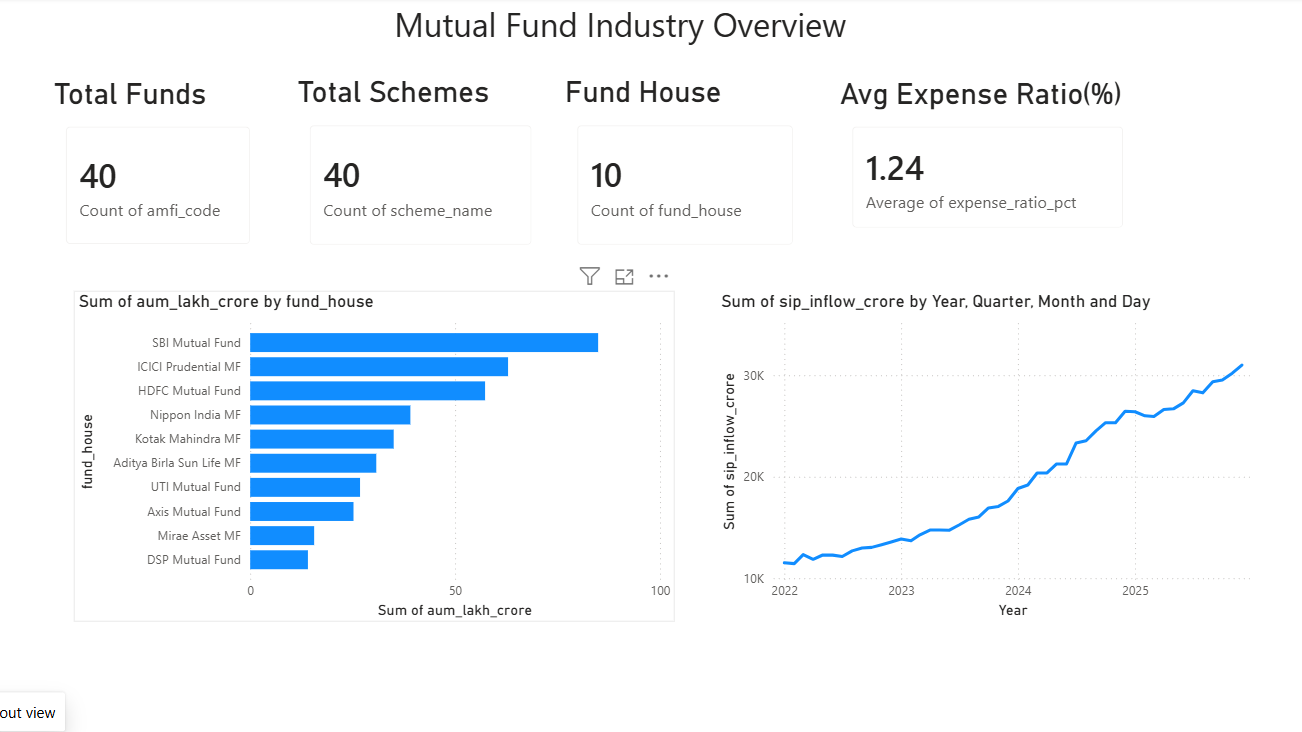

The page's visual inventory and layout, read from the dashboard file:
{"tool":"powerbi","page":{"name":"Industry Overview","canvas":[1280,720],"ordinal":0},"visuals":[{"type":"textbox","box":[9.6,0,1203.4,91.9],"z":0},{"type":"cardVisual","title":"Total Funds","fields":{"Data":["CountNonNull(01_fund_master_cleaned.amfi_code)"]},"box":[52.1,76.8,214.1,182.5],"z":1000},{"type":"cardVisual","title":"Total Schemes","fields":{"Data":["Count(01_fund_master_cleaned.scheme_name)"]},"box":[290.9,75.5,251.1,183.9],"z":2000},{"type":"cardVisual","title":"Fund House","fields":{"Data":["Count(01_fund_master_cleaned.fund_house)"]},"box":[553,75.5,245.6,183.9],"z":3000},{"type":"cardVisual","title":"Avg Expense Ratio(%)","fields":{"Data":["Avg(01_fund_master_cleaned.expense_ratio_pct)"]},"box":[822,76.8,299.1,166],"z":4000},{"type":"clusteredBarChart","fields":{"Category":["03_aum_by_fund_house_cleaned.fund_house"],"Y":["Sum(03_aum_by_fund_house_cleaned.aum_lakh_crore)"]},"box":[76.8,286.8,588.7,325.2],"z":5000},{"type":"lineChart","fields":{"Category":["04_monthly_sip_inflows_cleaned.month.Variation.Date Hierarchy.Year","04_monthly_sip_inflows_cleaned.month.Variation.Date Hierarchy.Quarter","04_monthly_sip_inflows_cleaned.month.Variation.Date Hierarchy.Month","04_monthly_sip_inflows_cleaned.month.Variation.Date Hierarchy.Day"],"Y":["Sum(04_monthly_sip_inflows_cleaned.sip_inflow_crore)"]},"box":[705.3,286.8,532.4,325.2],"z":6000}]}

Visuals, with their boxes in screenshot pixels (x1, y1, x2, y2), scaled from the page's 1280x720 canvas onto the 1302x732 screenshot:
textbox: left=10, top=0, right=1234, bottom=93
"Total Funds" cardVisual: left=53, top=78, right=271, bottom=264
"Total Schemes" cardVisual: left=296, top=77, right=551, bottom=264
"Fund House" cardVisual: left=563, top=77, right=812, bottom=264
"Avg Expense Ratio(%)" cardVisual: left=836, top=78, right=1140, bottom=247
clusteredBarChart - 03_aum_by_fund_house_cleaned.fund_house x Sum(03_aum_by_fund_house_cleaned.aum_lakh_crore): left=78, top=292, right=677, bottom=622
lineChart - 04_monthly_sip_inflows_cleaned.month.Variation.Date Hierarchy.Year x 04_monthly_sip_inflows_cleaned.month.Variation.Date Hierarchy.Quarter: left=717, top=292, right=1259, bottom=622
